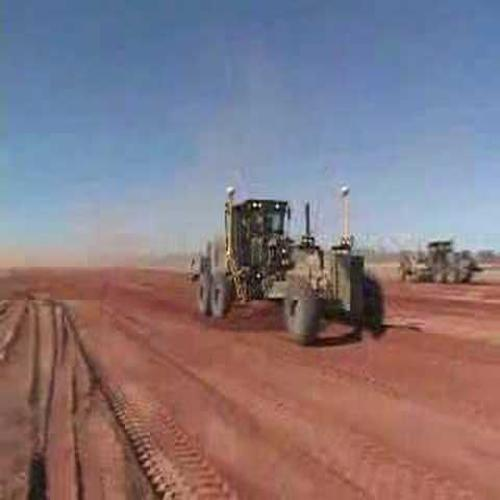con_eq: (198, 183, 387, 349), (399, 235, 485, 286)
